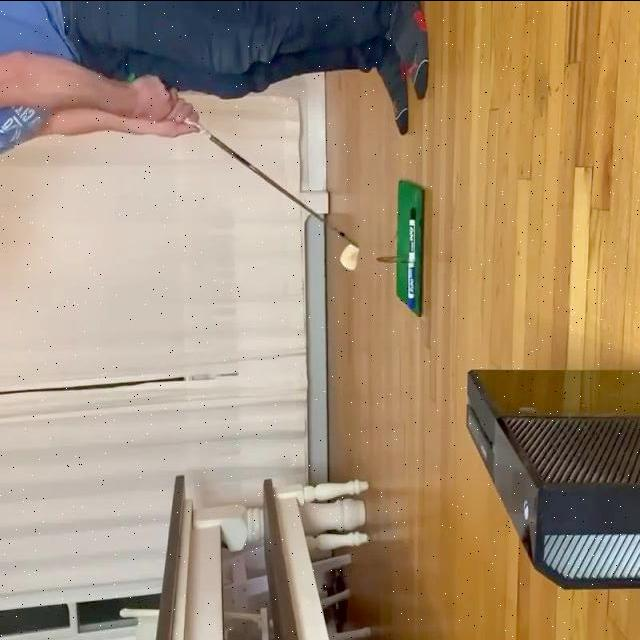ClubHandle: (182, 116, 360, 270)
ClubHead: (339, 242, 360, 269)
